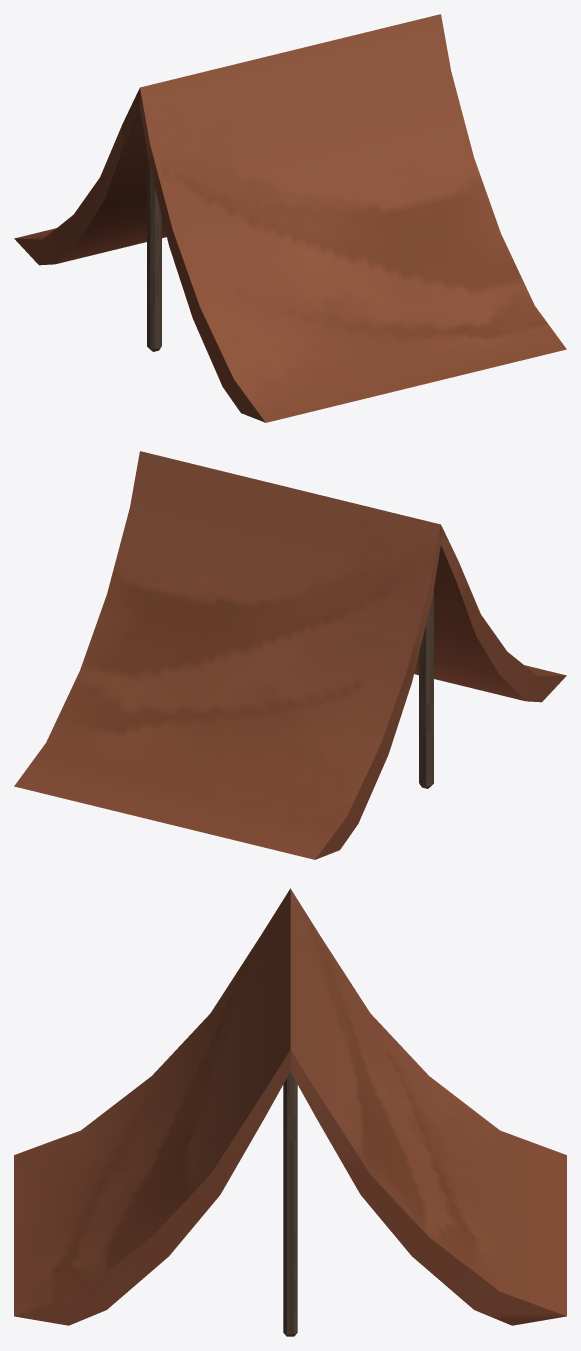
The model's file is tent.fbx.
3 views of the same model, one above another, from view 1: azimuth 30°, elevation 25°; view 2: azimuth 150°, elevation 25°; view 3: azimuth 270°, elevation 25° (orthographic). The views are drawn at different scales.
Parts seen in each view (by area): view 1: tent; view 2: tent; view 3: tent.
Boxes of the visible parts, box(x1,y1,x2,y2) form: tent: box(14, 14, 566, 422); tent: box(14, 451, 566, 859); tent: box(14, 888, 566, 1336).
Size of the model in its own units: 14.94 by 12.47 by 21.4.
